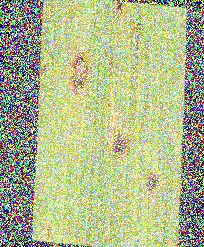Bacterial_Leaf_Blight: (101, 104, 134, 163), (68, 42, 96, 95), (136, 158, 172, 198), (40, 219, 55, 242), (46, 0, 59, 20), (113, 2, 126, 14)
